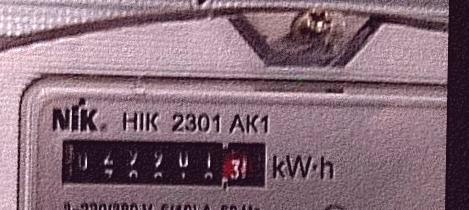0: (175, 145, 191, 171), (74, 149, 90, 172)
1: (202, 146, 215, 170)
2: (101, 145, 116, 167)
3: (227, 158, 243, 181)
9: (151, 147, 164, 170), (127, 145, 139, 167)
screen: (53, 132, 275, 198)
